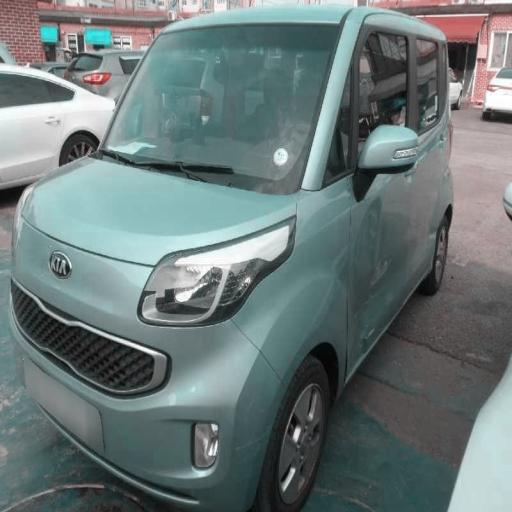normal: (13, 20, 474, 484)
